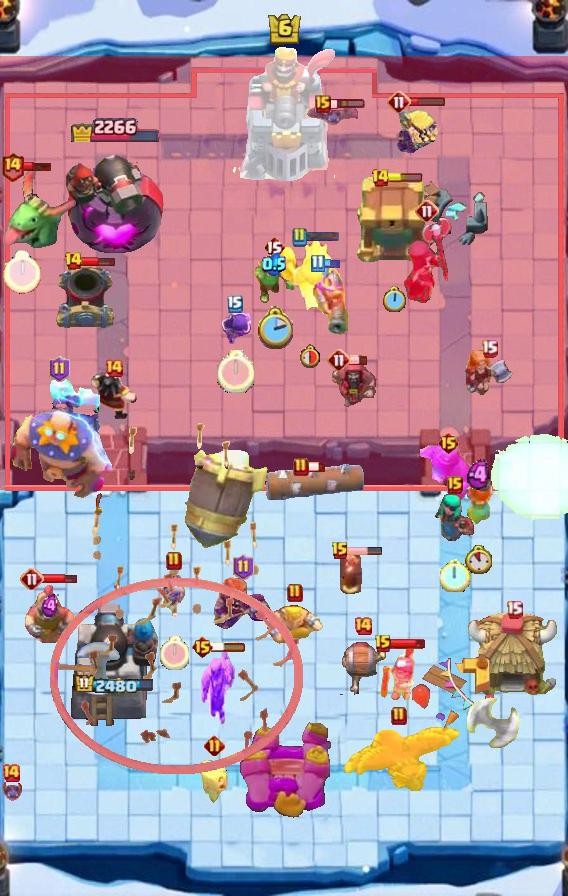axe: (57, 641, 123, 697), (465, 687, 521, 749)
bar: (42, 572, 78, 585), (329, 98, 366, 110), (211, 641, 247, 653), (390, 638, 426, 650), (409, 96, 446, 107), (80, 256, 116, 267), (304, 231, 340, 242), (17, 161, 53, 172), (347, 546, 383, 556), (387, 173, 423, 183), (306, 461, 326, 473), (349, 355, 368, 366), (322, 258, 341, 269)
bar-level: (0, 151, 25, 182), (20, 567, 44, 591), (327, 348, 351, 372), (415, 199, 439, 223), (387, 90, 411, 114), (191, 635, 214, 659), (437, 431, 460, 455), (233, 554, 254, 580), (49, 356, 70, 382), (263, 235, 285, 259), (204, 735, 225, 756), (1, 763, 21, 783), (353, 616, 373, 636), (104, 358, 124, 378), (64, 251, 83, 271), (371, 168, 390, 188), (374, 634, 392, 654), (331, 541, 349, 561), (506, 600, 523, 619), (481, 339, 498, 358), (391, 706, 407, 726), (287, 583, 303, 603), (166, 551, 182, 571), (293, 457, 309, 477), (291, 227, 307, 247), (447, 476, 463, 494), (227, 295, 243, 313), (315, 95, 331, 113), (310, 254, 325, 273)
barbarian: (266, 603, 324, 647)
barbarian-evolution: (199, 652, 237, 727), (394, 104, 440, 153)
bat: (305, 106, 363, 126), (0, 777, 24, 803)
cannoneer-tower: (69, 599, 159, 731), (64, 138, 164, 256)
clock: (3, 250, 41, 294), (217, 350, 254, 393), (256, 306, 293, 349), (440, 558, 471, 592), (160, 636, 189, 670), (465, 545, 492, 574), (383, 286, 407, 314), (298, 344, 320, 368)
electro-wizard: (88, 368, 140, 422)
elixir: (467, 459, 490, 491), (262, 252, 286, 276), (41, 594, 59, 618)
elixir-golem-mid: (420, 445, 476, 503)
fire-spirit: (338, 548, 364, 598)
guard: (379, 643, 417, 705)
heal-spirit: (198, 759, 230, 803)
king-tower: (230, 45, 338, 181)
mortar: (54, 264, 116, 332)
musketeer: (310, 263, 348, 335)
night-witch: (401, 216, 453, 308)
rascal-girl: (433, 494, 477, 544)
royal-recruit: (25, 580, 75, 646)
skeleton-evolution: (159, 575, 189, 621), (220, 313, 251, 349)
spear-goblin: (252, 256, 296, 304)
the-log: (263, 464, 365, 500)
tower-bar: (68, 111, 160, 142), (74, 674, 155, 696)
valkyrie: (462, 350, 516, 400), (459, 478, 497, 530)
valkyrie-evolution: (211, 574, 275, 632)
wall-breaker: (339, 641, 387, 695)
wizard: (329, 358, 377, 410)
